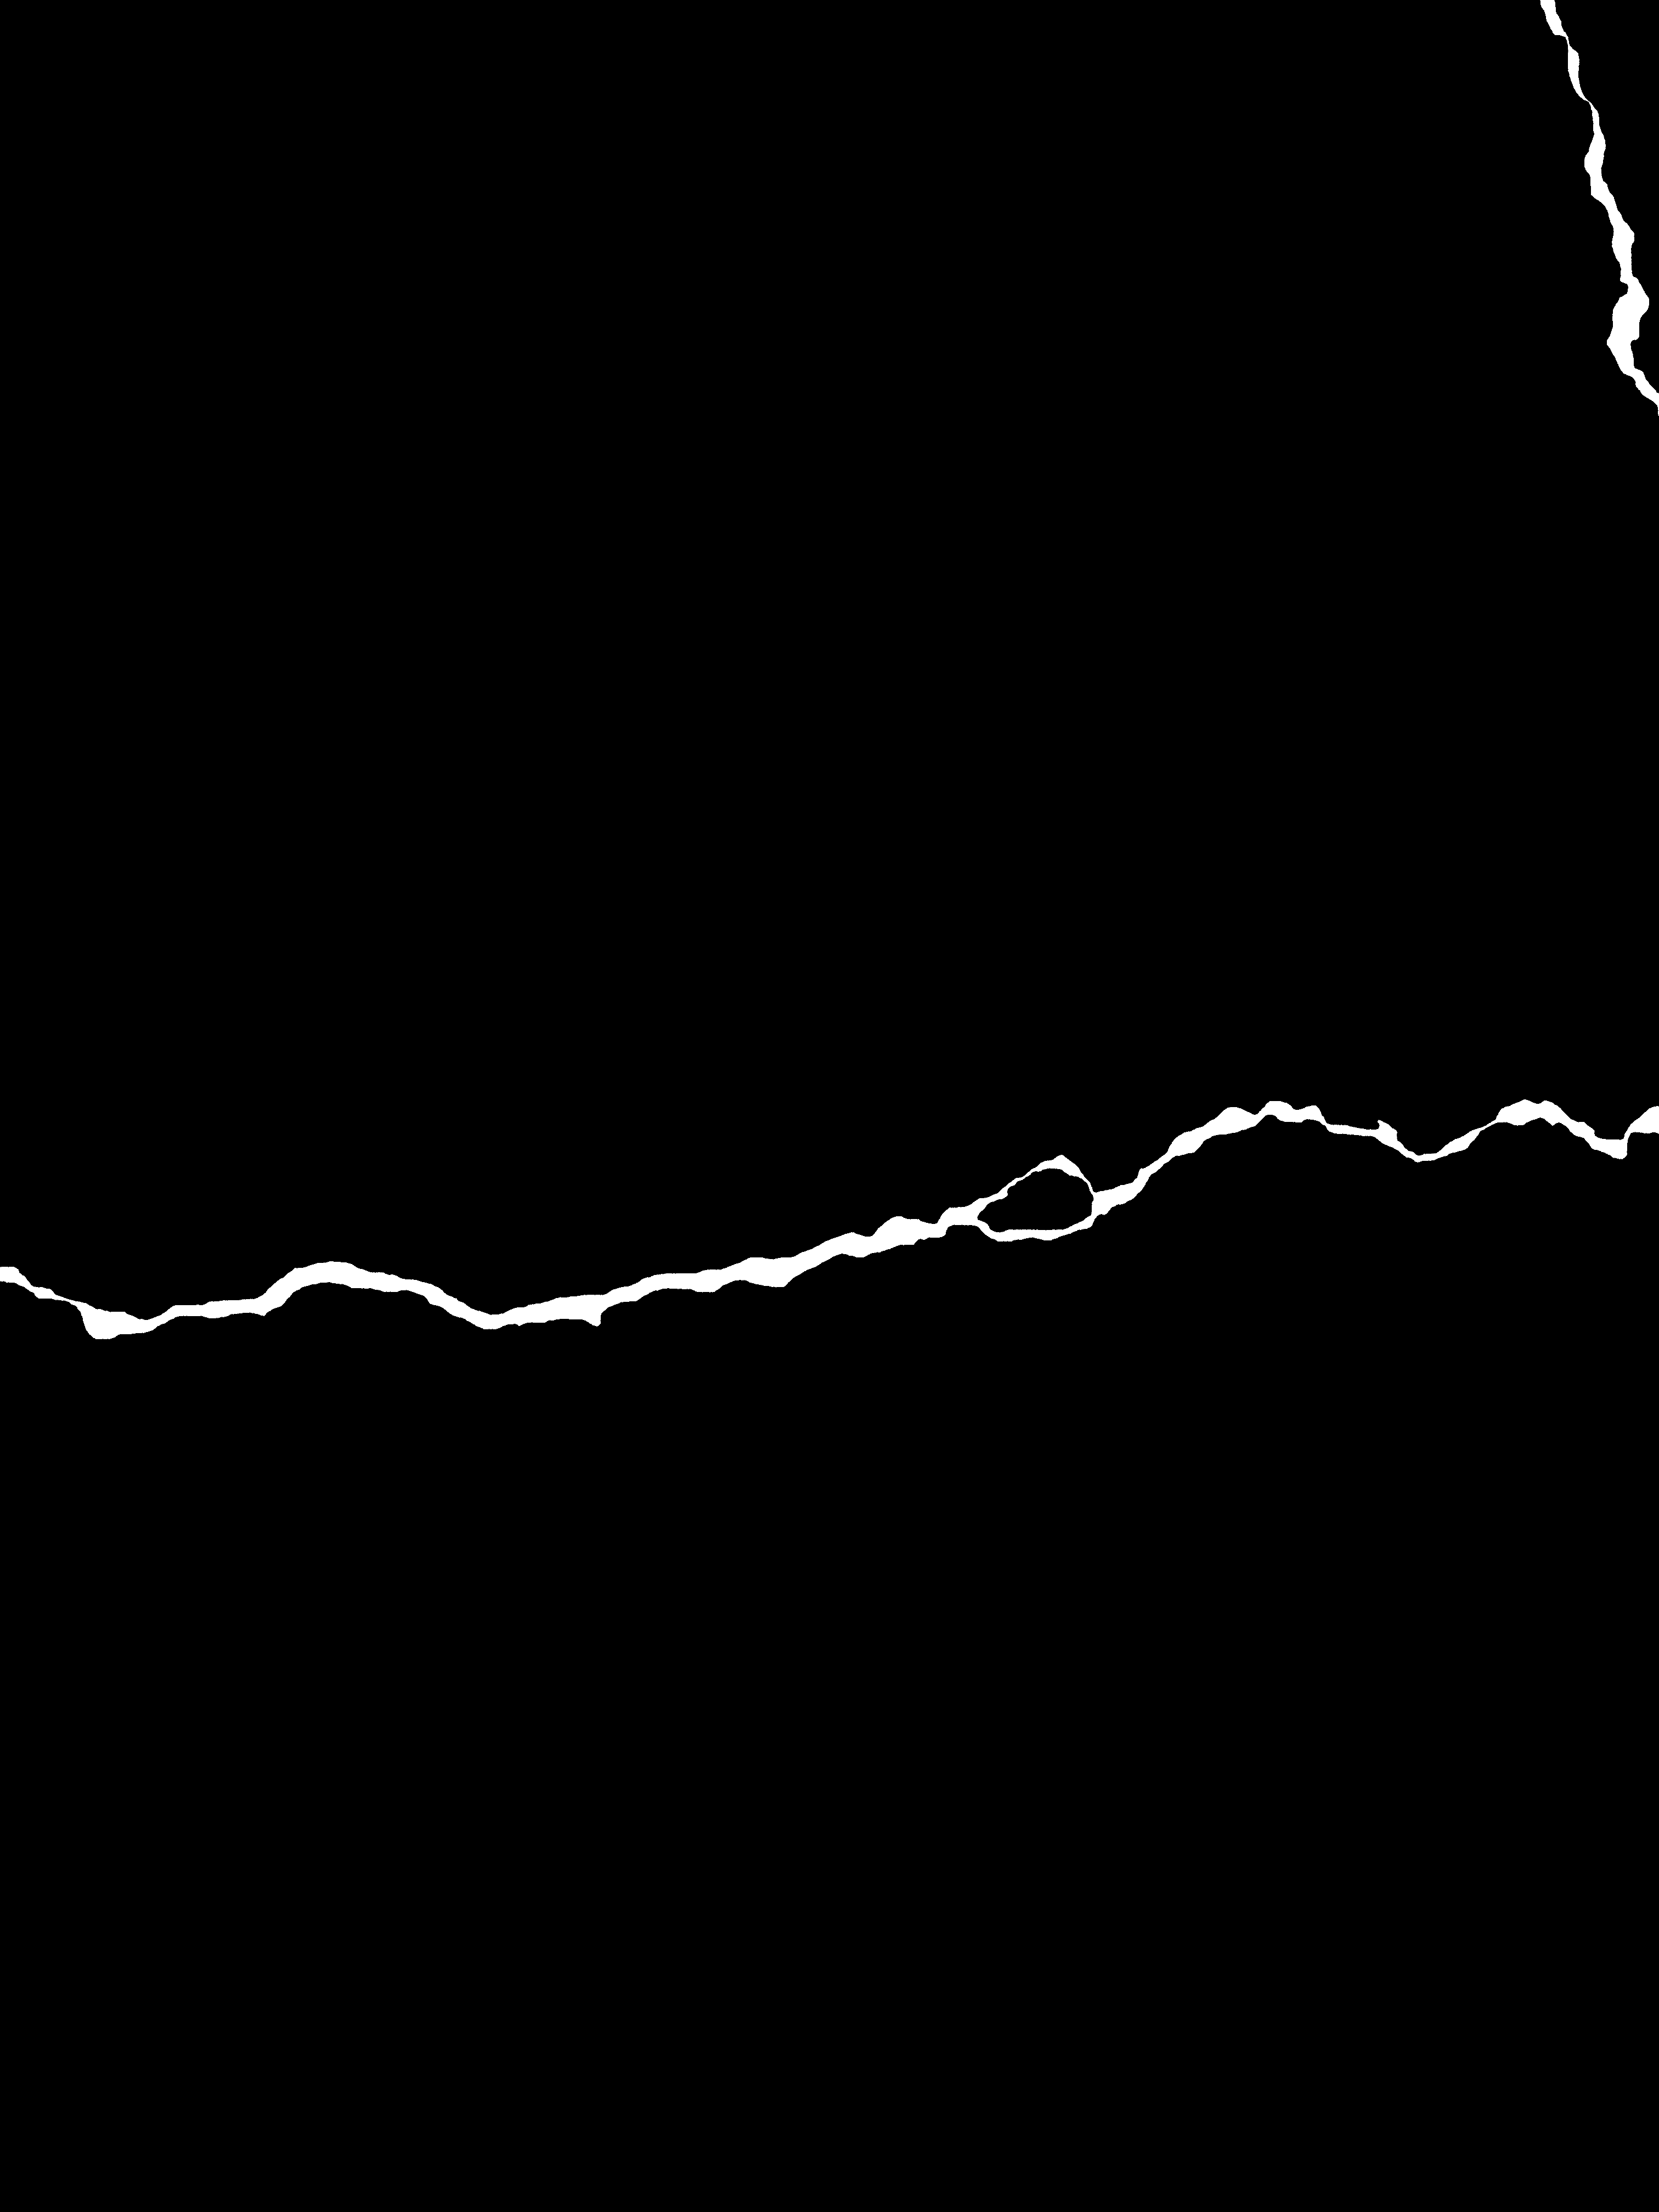Crack: (0, 1073, 1659, 1353), (1518, 0, 1659, 493)
